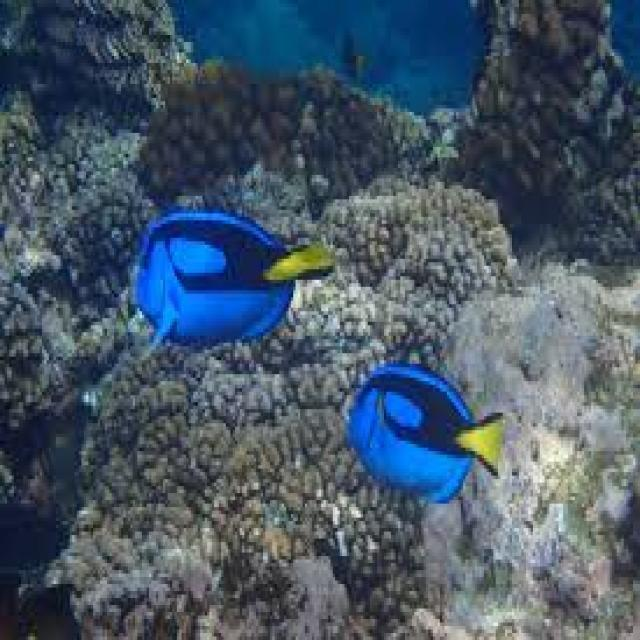TangFish: (134, 206, 328, 358), (346, 361, 507, 508)
